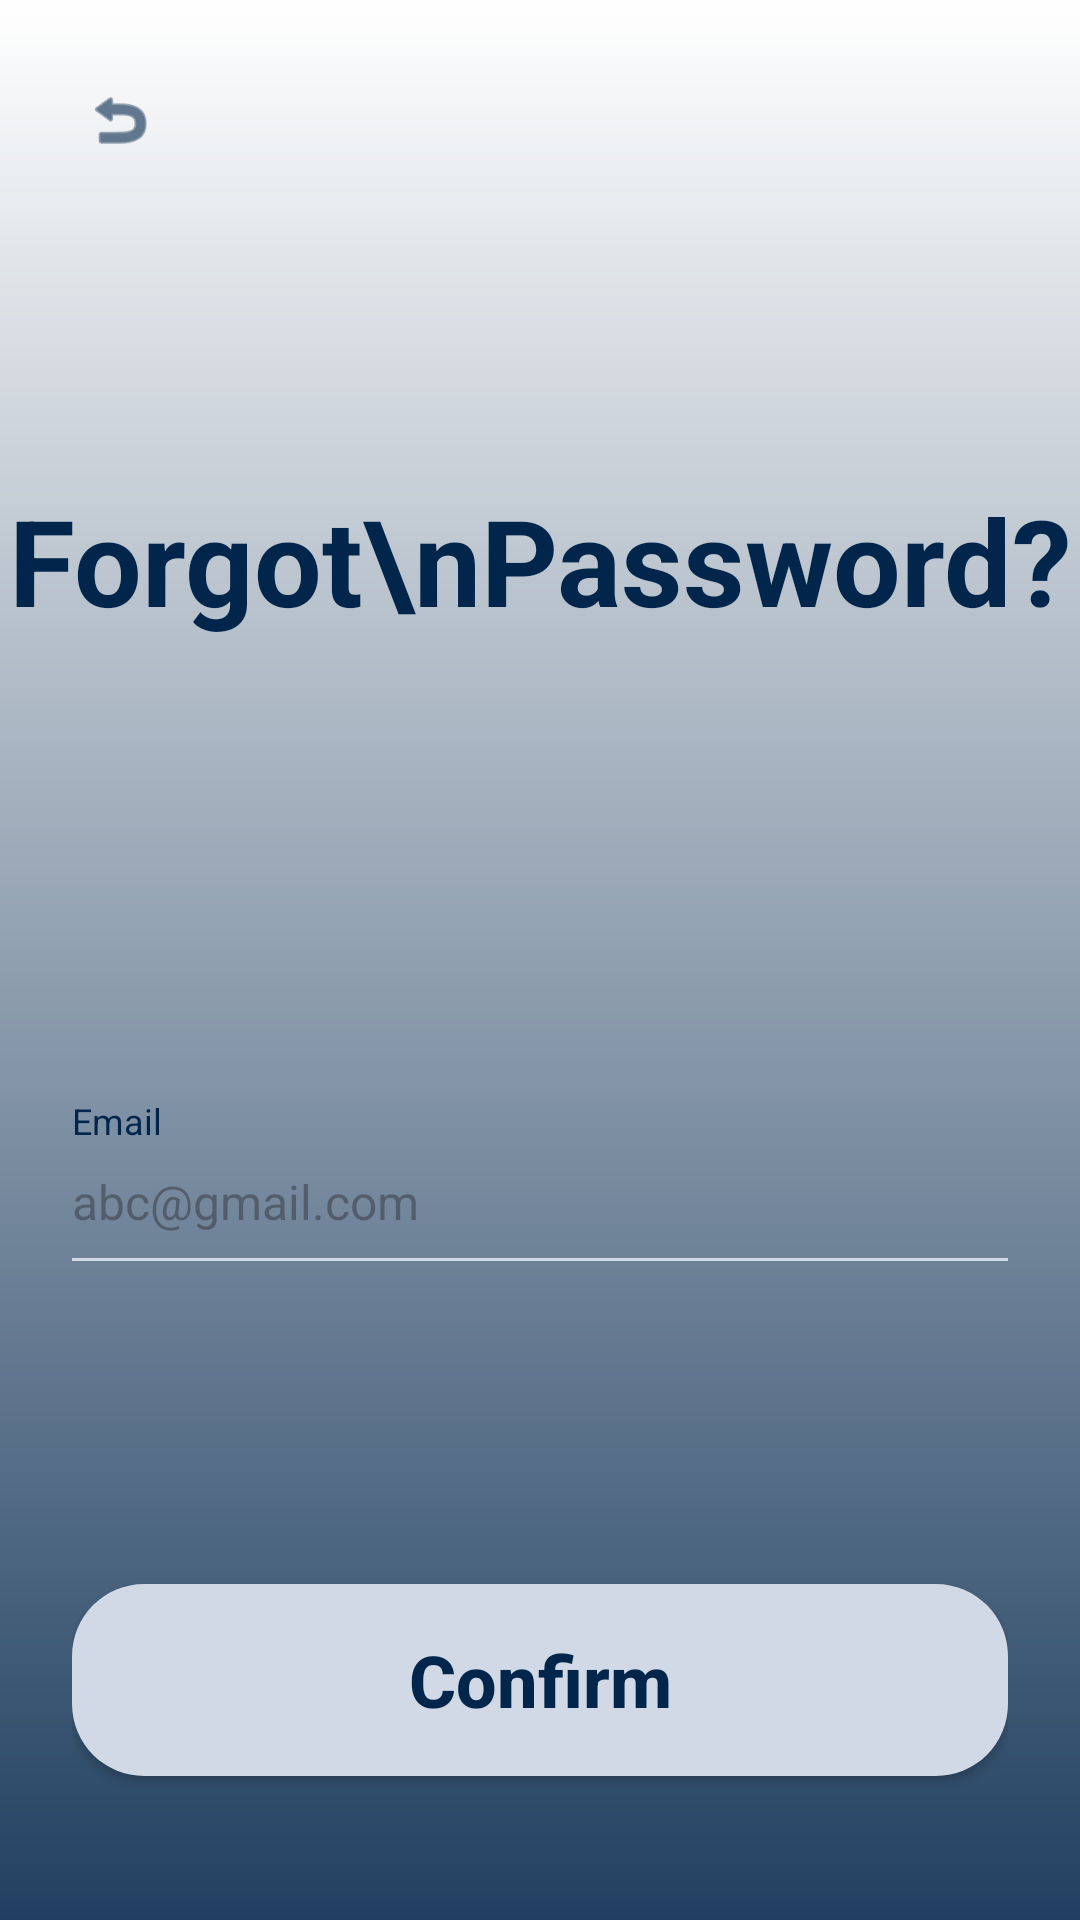

Point at icon controls on the screen. Image size 1080×1920, points as (x=x, y=y).
revert: (x=121, y=120)
